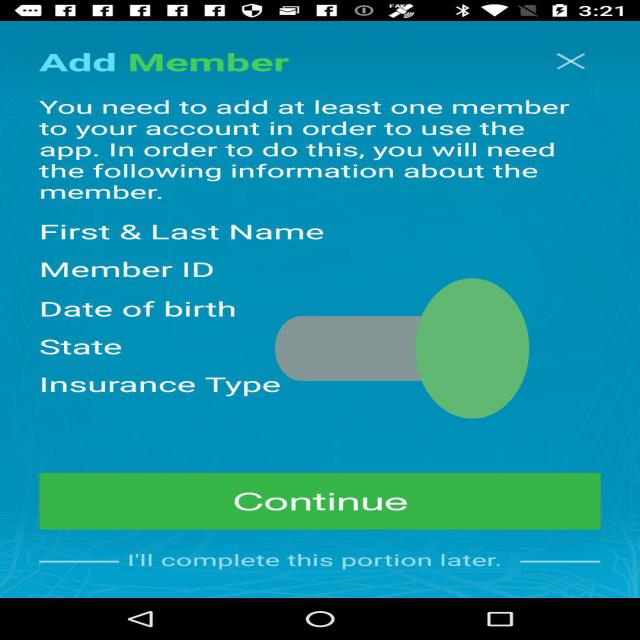social proof: (275, 192, 529, 505)
